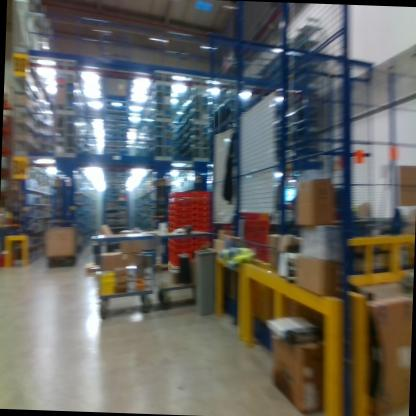small_load_carrier: (166, 244, 194, 271)
